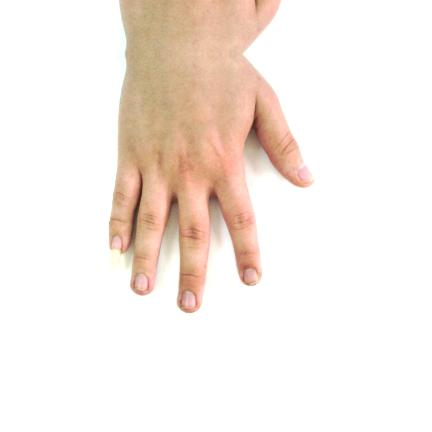Nail: (298, 165, 314, 182), (181, 291, 196, 309), (134, 274, 148, 291), (244, 268, 258, 285), (110, 235, 123, 252)
